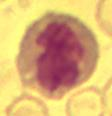lymphocyte: (19, 11, 101, 96)
